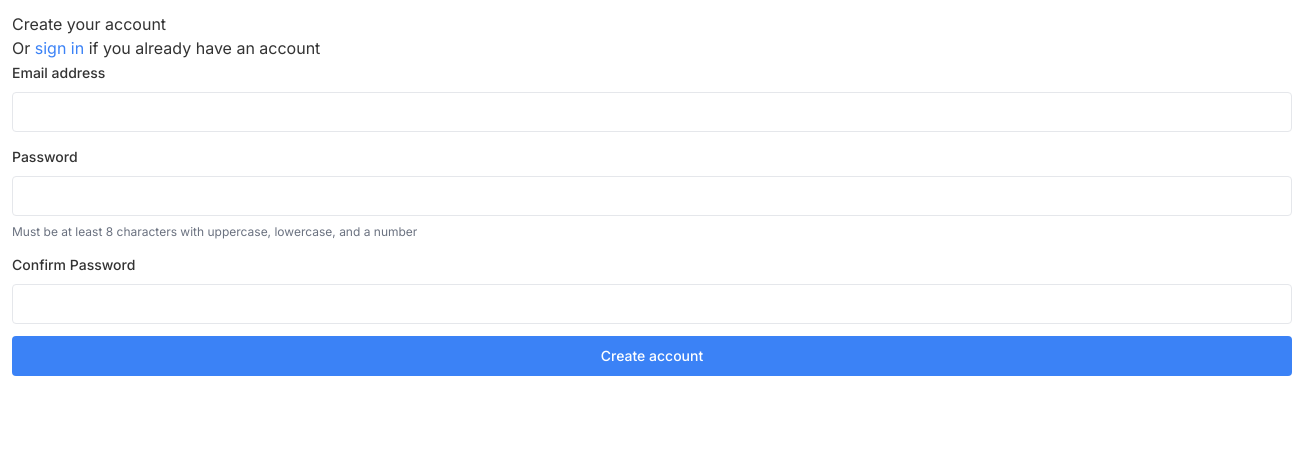
Test: Sign-Up Error Handling › Client-Side Validation Errors › should show error for invalid email format
Use an email that passes HTML5 validation but fails our custom validation
Type "test@example" into the field labelled "Email address". click: (652, 112)
box: [12, 92, 1292, 132]
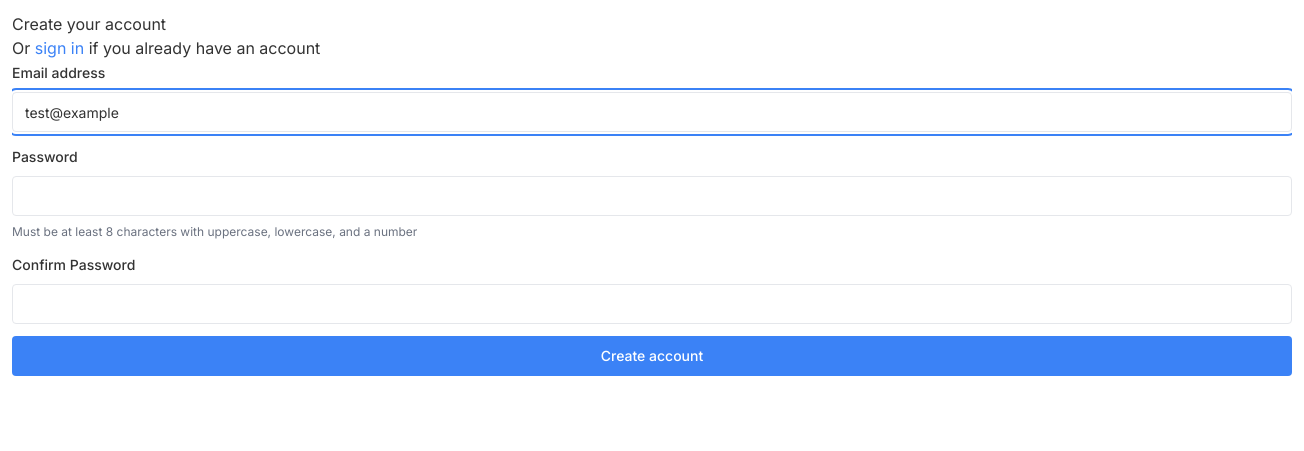
Type "password123" into the password field labelled "Password". click: (652, 196)
box: [12, 176, 1292, 216]
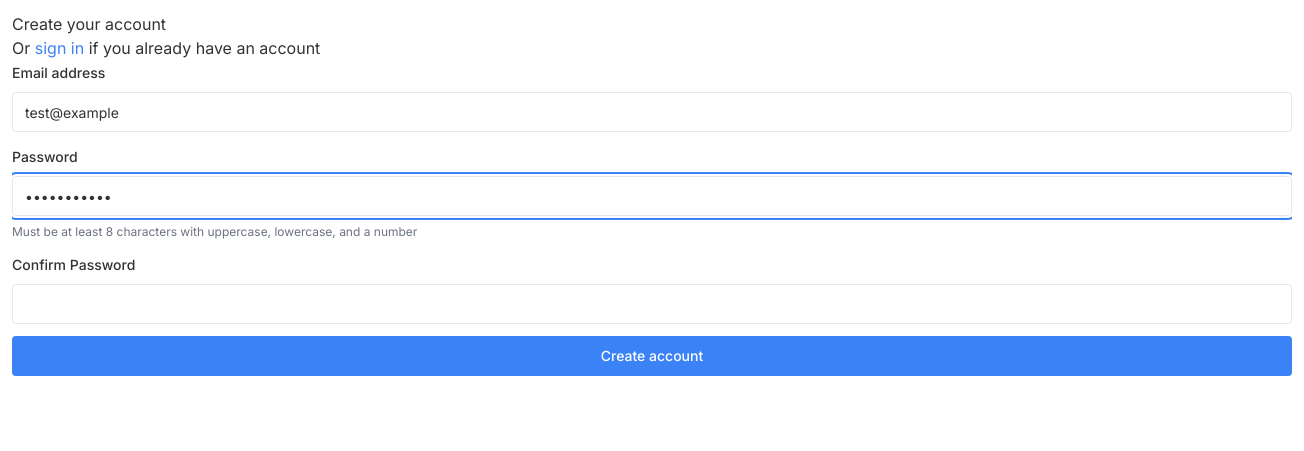
Type "password123" into the password field labelled "Confirm Password". click: (652, 304)
box: [12, 284, 1292, 324]
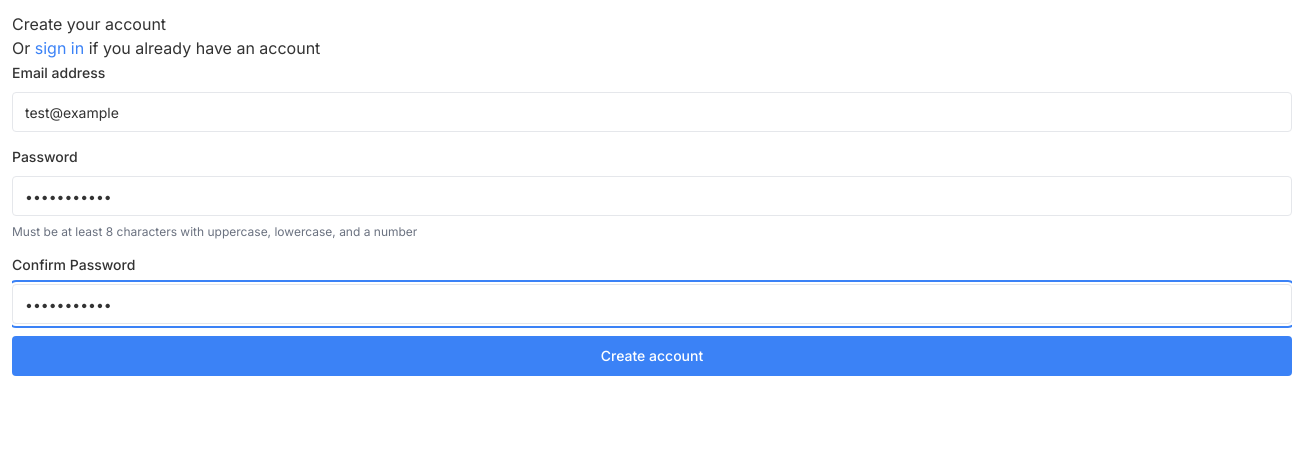
Click the button "Create account". click: (652, 356)
box: [12, 336, 1292, 376]
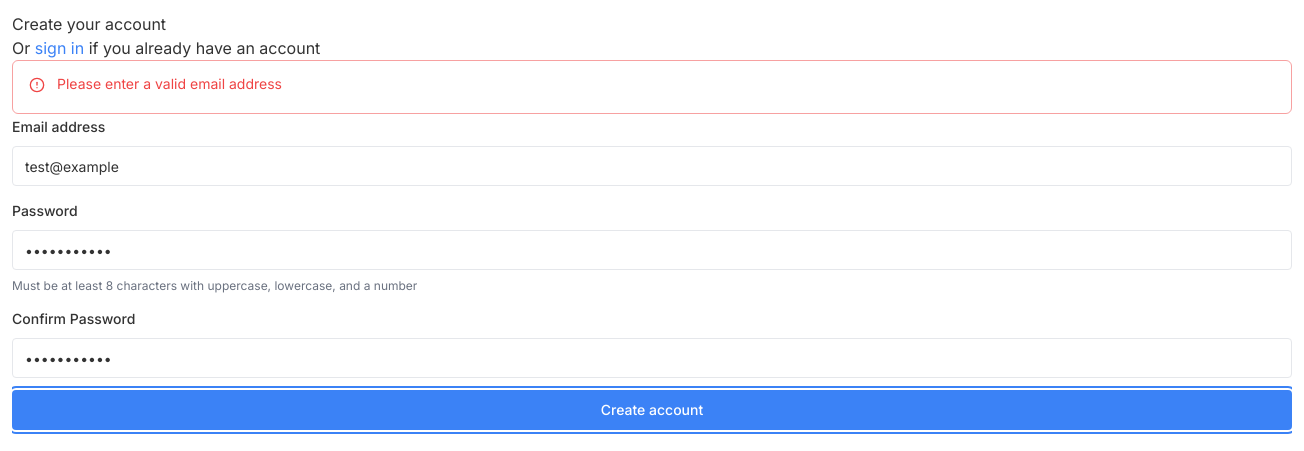
Expected: the message "Please enter a valid email address" is shown, [12, 60, 1292, 114]
Expected: the text "Please enter a valid email address" is shown, [57, 75, 282, 92]
